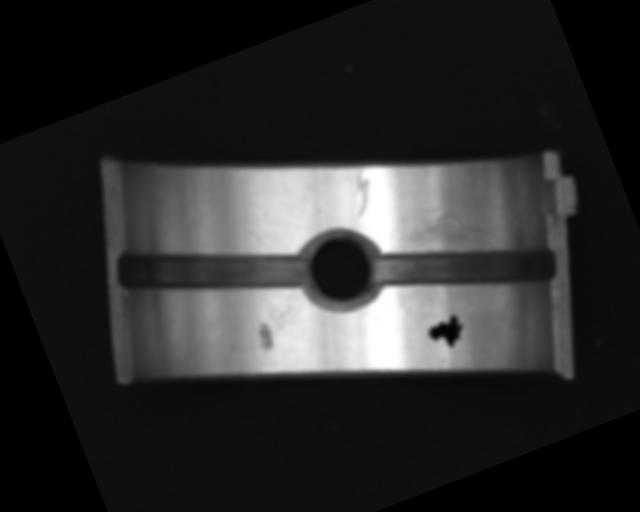blot: (424, 312, 469, 355)
bruise: (252, 320, 277, 353)
gap: (113, 195, 313, 344), (372, 202, 560, 337)
hole: (297, 223, 391, 318)
nick: (340, 165, 380, 219)
scratch: (393, 192, 505, 276)
